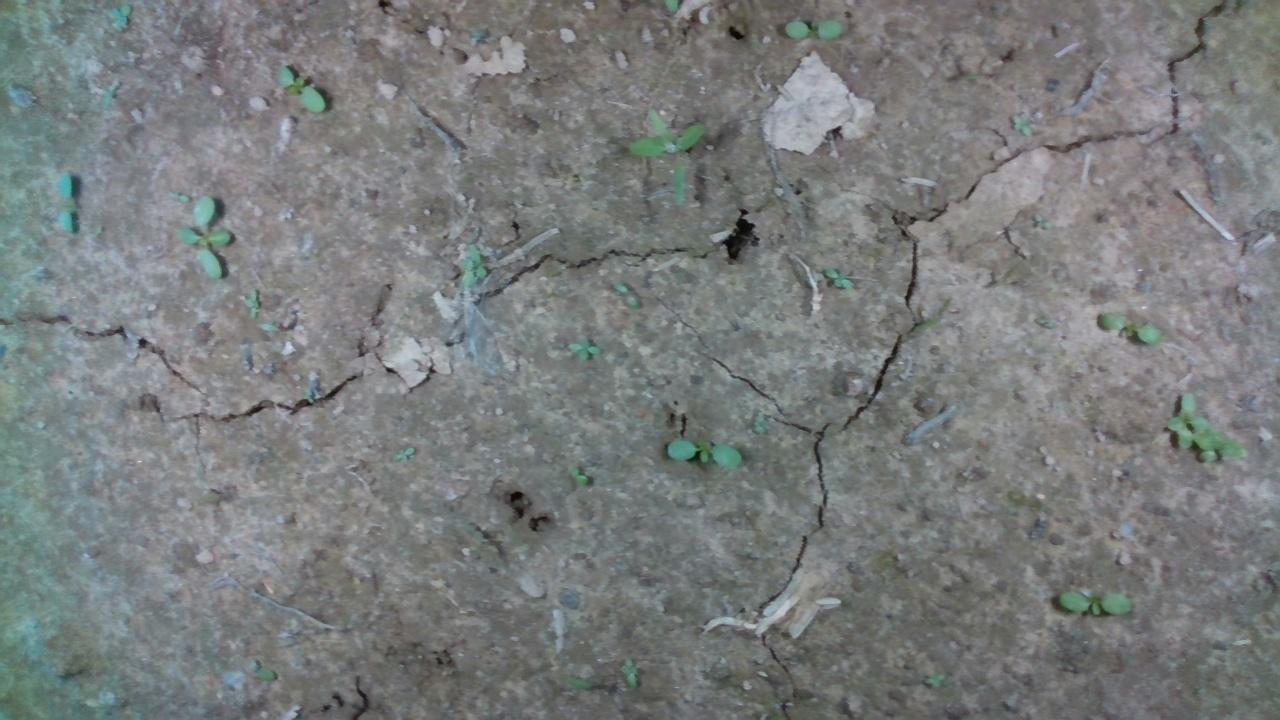weed: (627, 105, 706, 209), (169, 195, 233, 279), (266, 63, 331, 119), (667, 428, 742, 474), (1055, 578, 1135, 621), (1091, 296, 1160, 342), (50, 170, 80, 236), (820, 258, 864, 292), (563, 328, 599, 368), (783, 17, 847, 39), (560, 457, 598, 490), (1001, 107, 1039, 140), (390, 441, 419, 472)
